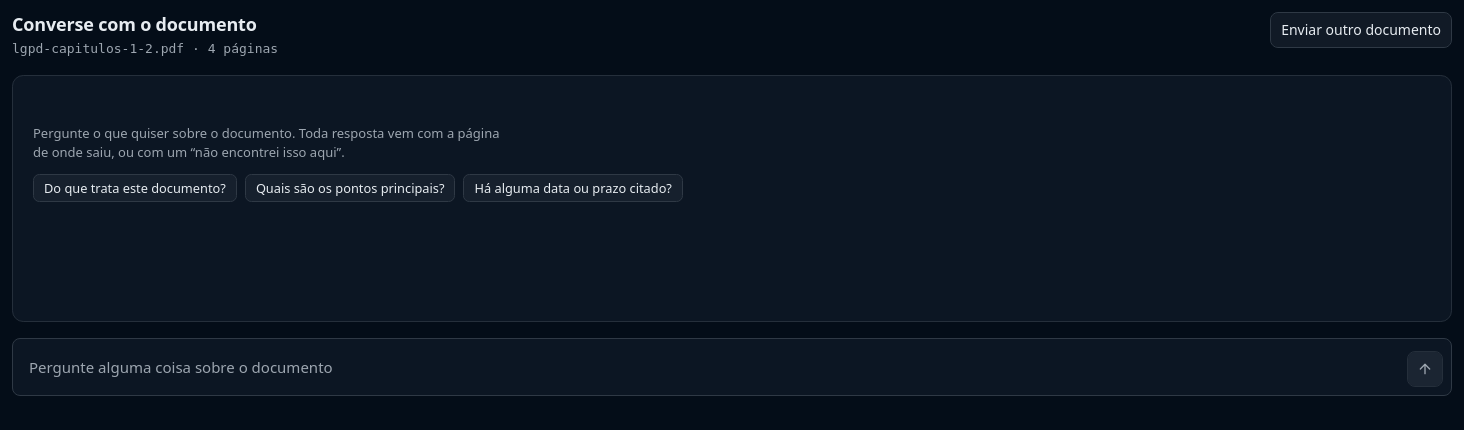
Test: ChatView › mescla o histórico do servidor com a pergunta feita antes de ele chegar
Click the text box named "Sua pergunta sobre o documento" at (710, 367), box [21,347,1399,387]
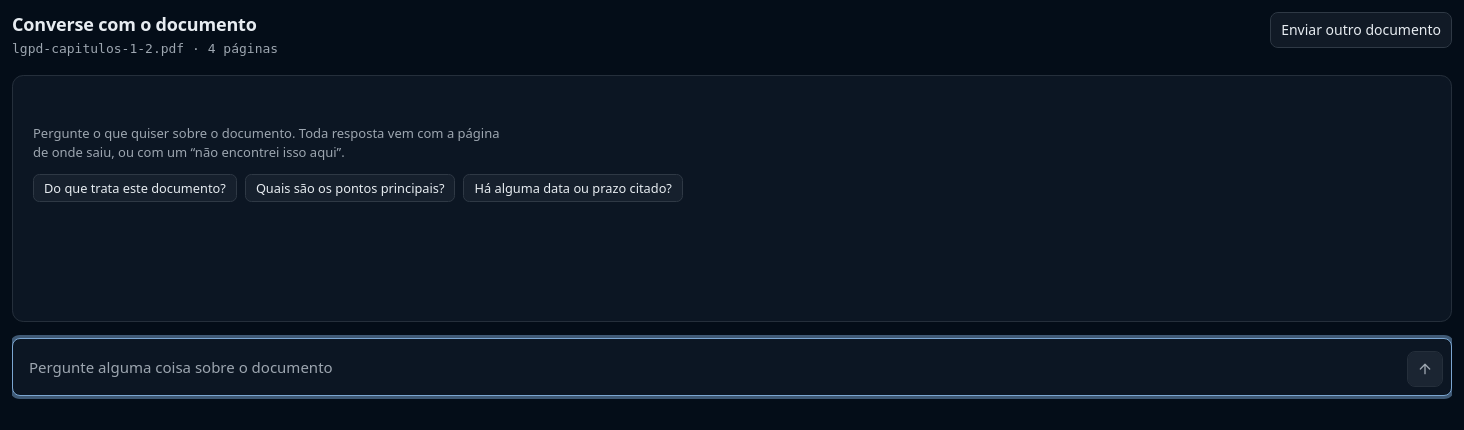
Type keys "e quais são os princípios?{Enter}"
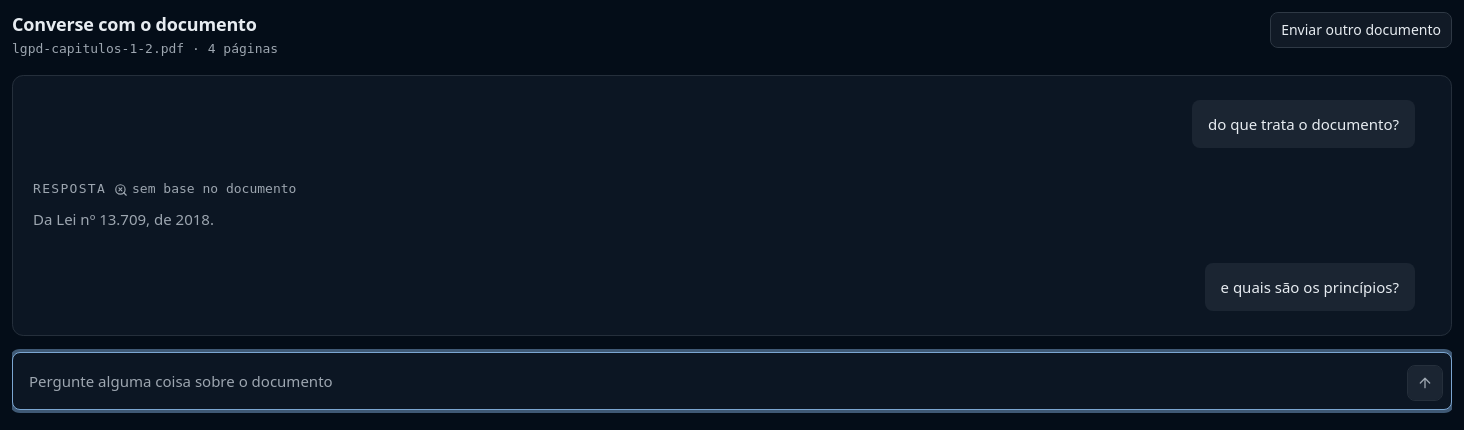
Now the text "Da Lei nº 13.709, de 2018." is shown, box [33,209,214,229]
Now the text "do que trata o documento?" is shown, box [1192,100,1415,148]
Now the text "e quais são os princípios?" is shown, box [1204,263,1415,311]
